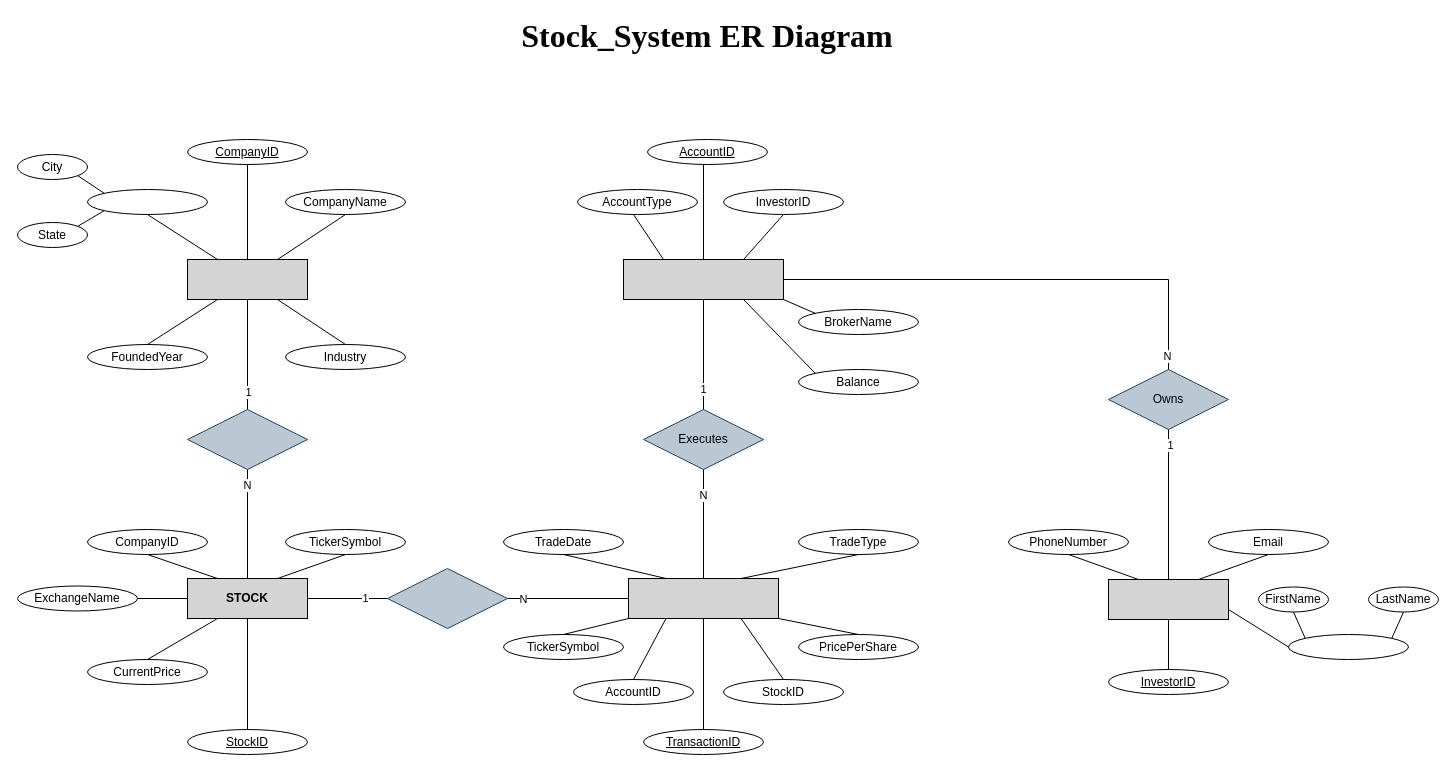
Image size: 1456x772. Some labels were removed from this diagram. The centre of each missing label's shape, as x and y in pixels:
"BROKERAGEACCOUNT" goes at (x=703, y=279).
"COMPANY" goes at (x=247, y=279).
"Headquarters" goes at (x=147, y=201).
"INVESTOR" goes at (x=1168, y=599).
"Involves" goes at (x=447, y=598).
"Issues" goes at (x=247, y=439).
"Name" goes at (x=1348, y=647).
"TRADETRANSACTION" goes at (x=703, y=598).
